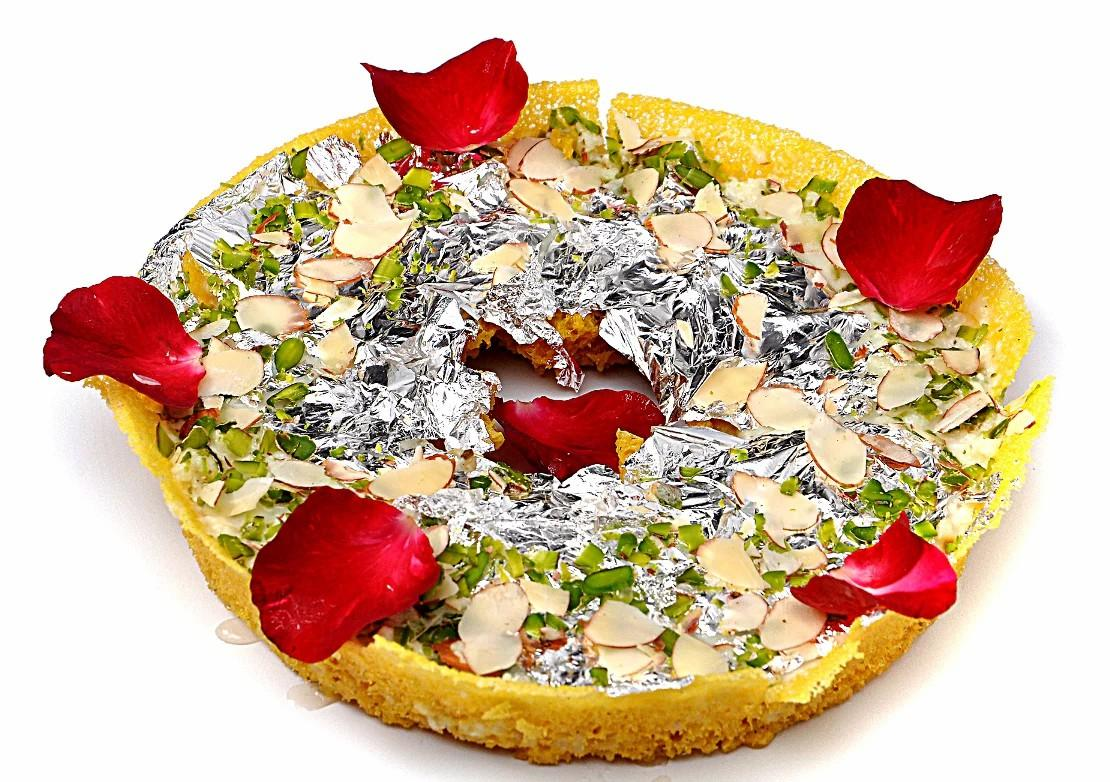Ghevar: (96, 78, 1044, 766)
